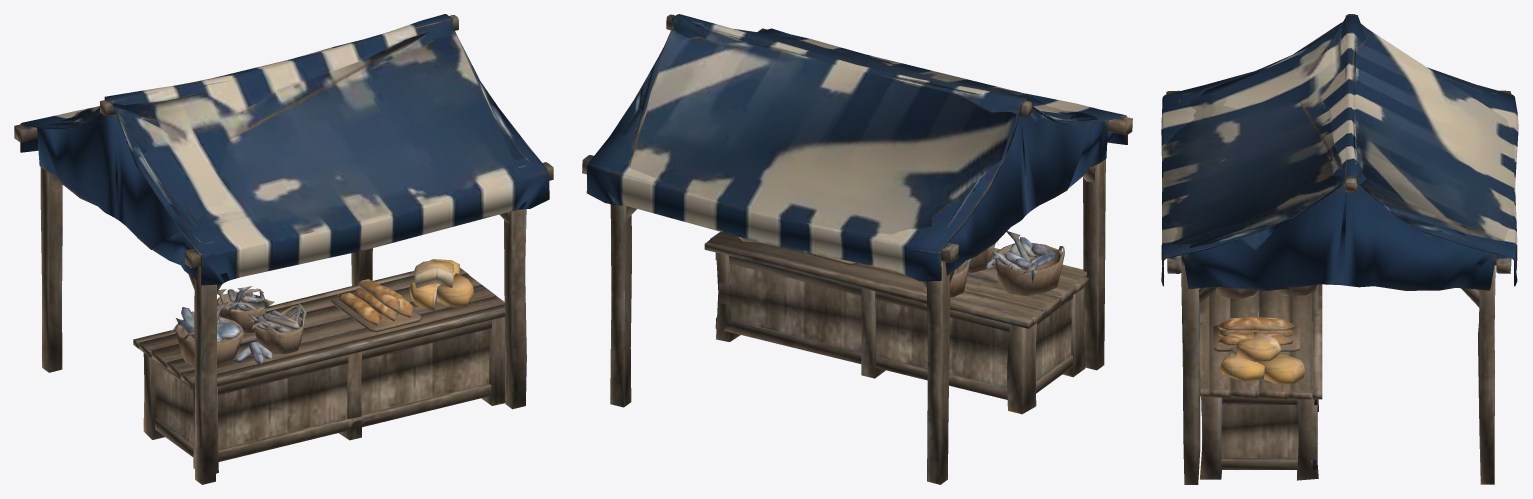
The model's file is stall_blue.glb.
3 views of the same model, side by side, from view 1: azimuth 30°, elevation 25°; view 2: azimuth 150°, elevation 25°; view 3: azimuth 270°, elevation 25° (orthographic). The views are drawn at different scales.
Bounding box in the file's own units: 0.9473 × 0.812 × 0.8374.
1 material, 1 textured.
